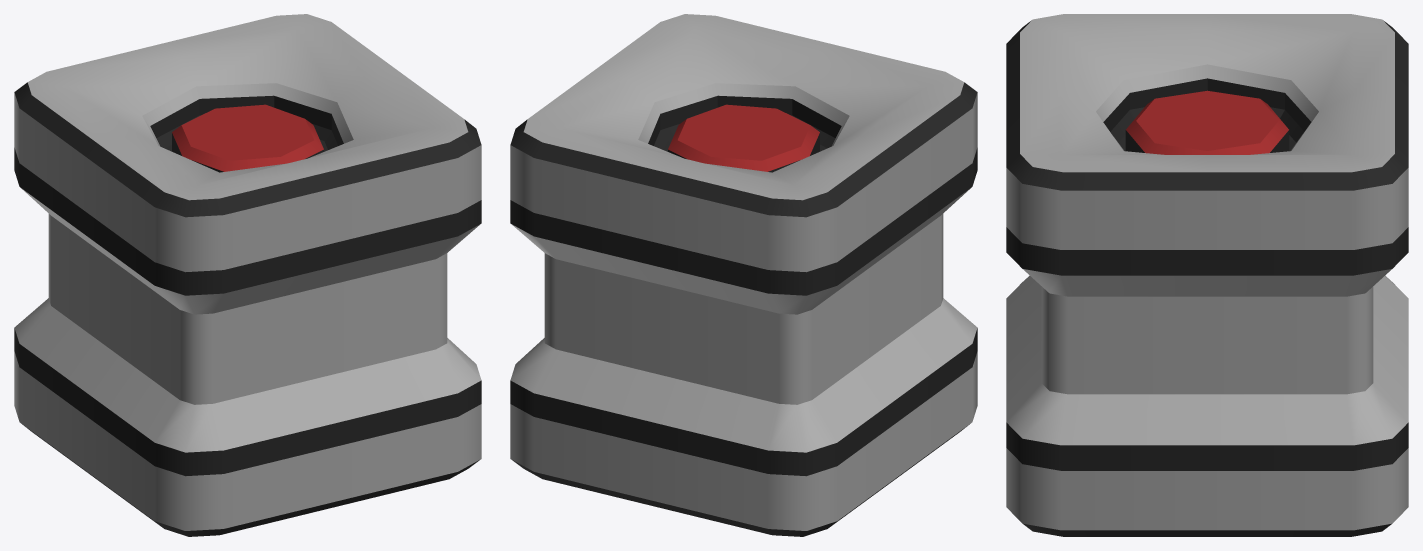
File: Cube-Jumper.fbx
3 renders of one model, left to right at view 1: azimuth 30°, elevation 25°; view 2: azimuth 150°, elevation 25°; view 3: azimuth 270°, elevation 25°, orthographic. The views are drawn at different scales.
Parts seen in each view (by area): view 1: pCube3; view 2: pCube3; view 3: pCube3.
Part boxes in pixels (<box>): pCube3: <box>14,14,481,536</box>; pCube3: <box>510,14,977,536</box>; pCube3: <box>1006,14,1408,536</box>.
Size of the model in its own units: 100 by 100 by 100.
